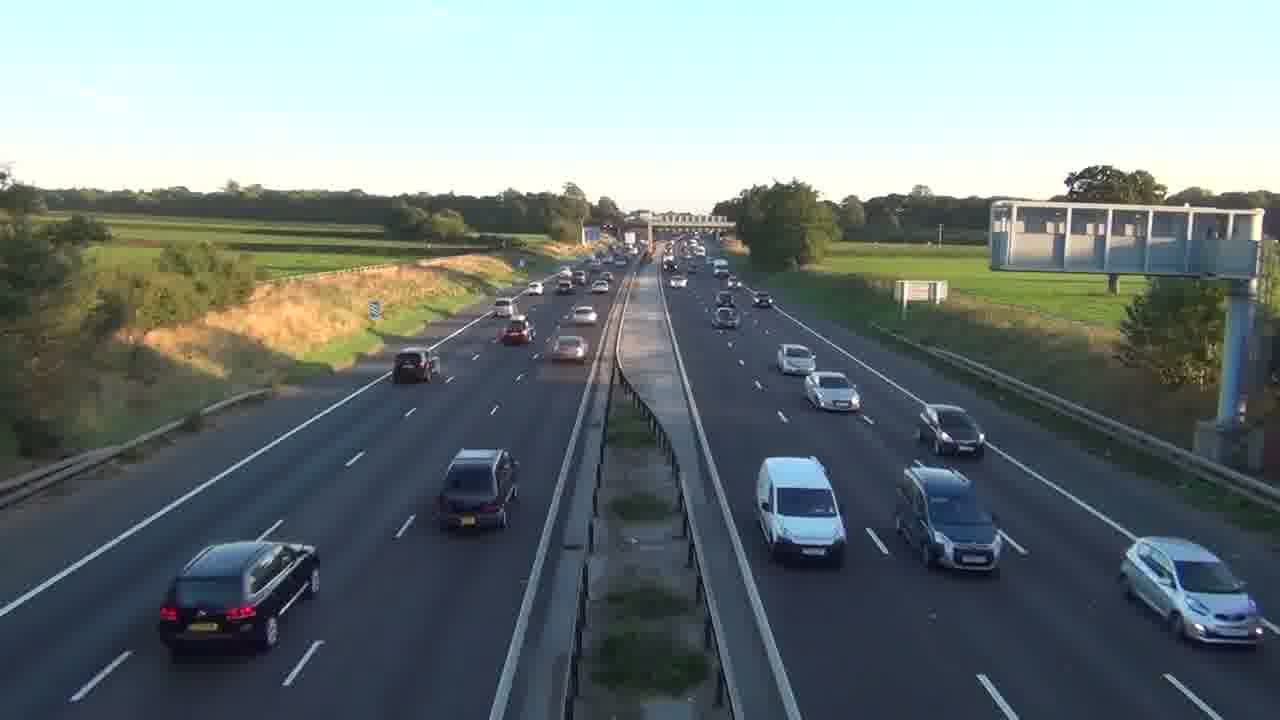car: (158, 536, 322, 655), (1118, 535, 1265, 648), (754, 455, 848, 567), (917, 403, 986, 458), (801, 370, 863, 414), (391, 348, 435, 384), (776, 344, 817, 376), (545, 334, 589, 363), (497, 317, 532, 346), (571, 304, 598, 325)
truck: (893, 462, 1002, 576), (433, 447, 520, 533)
